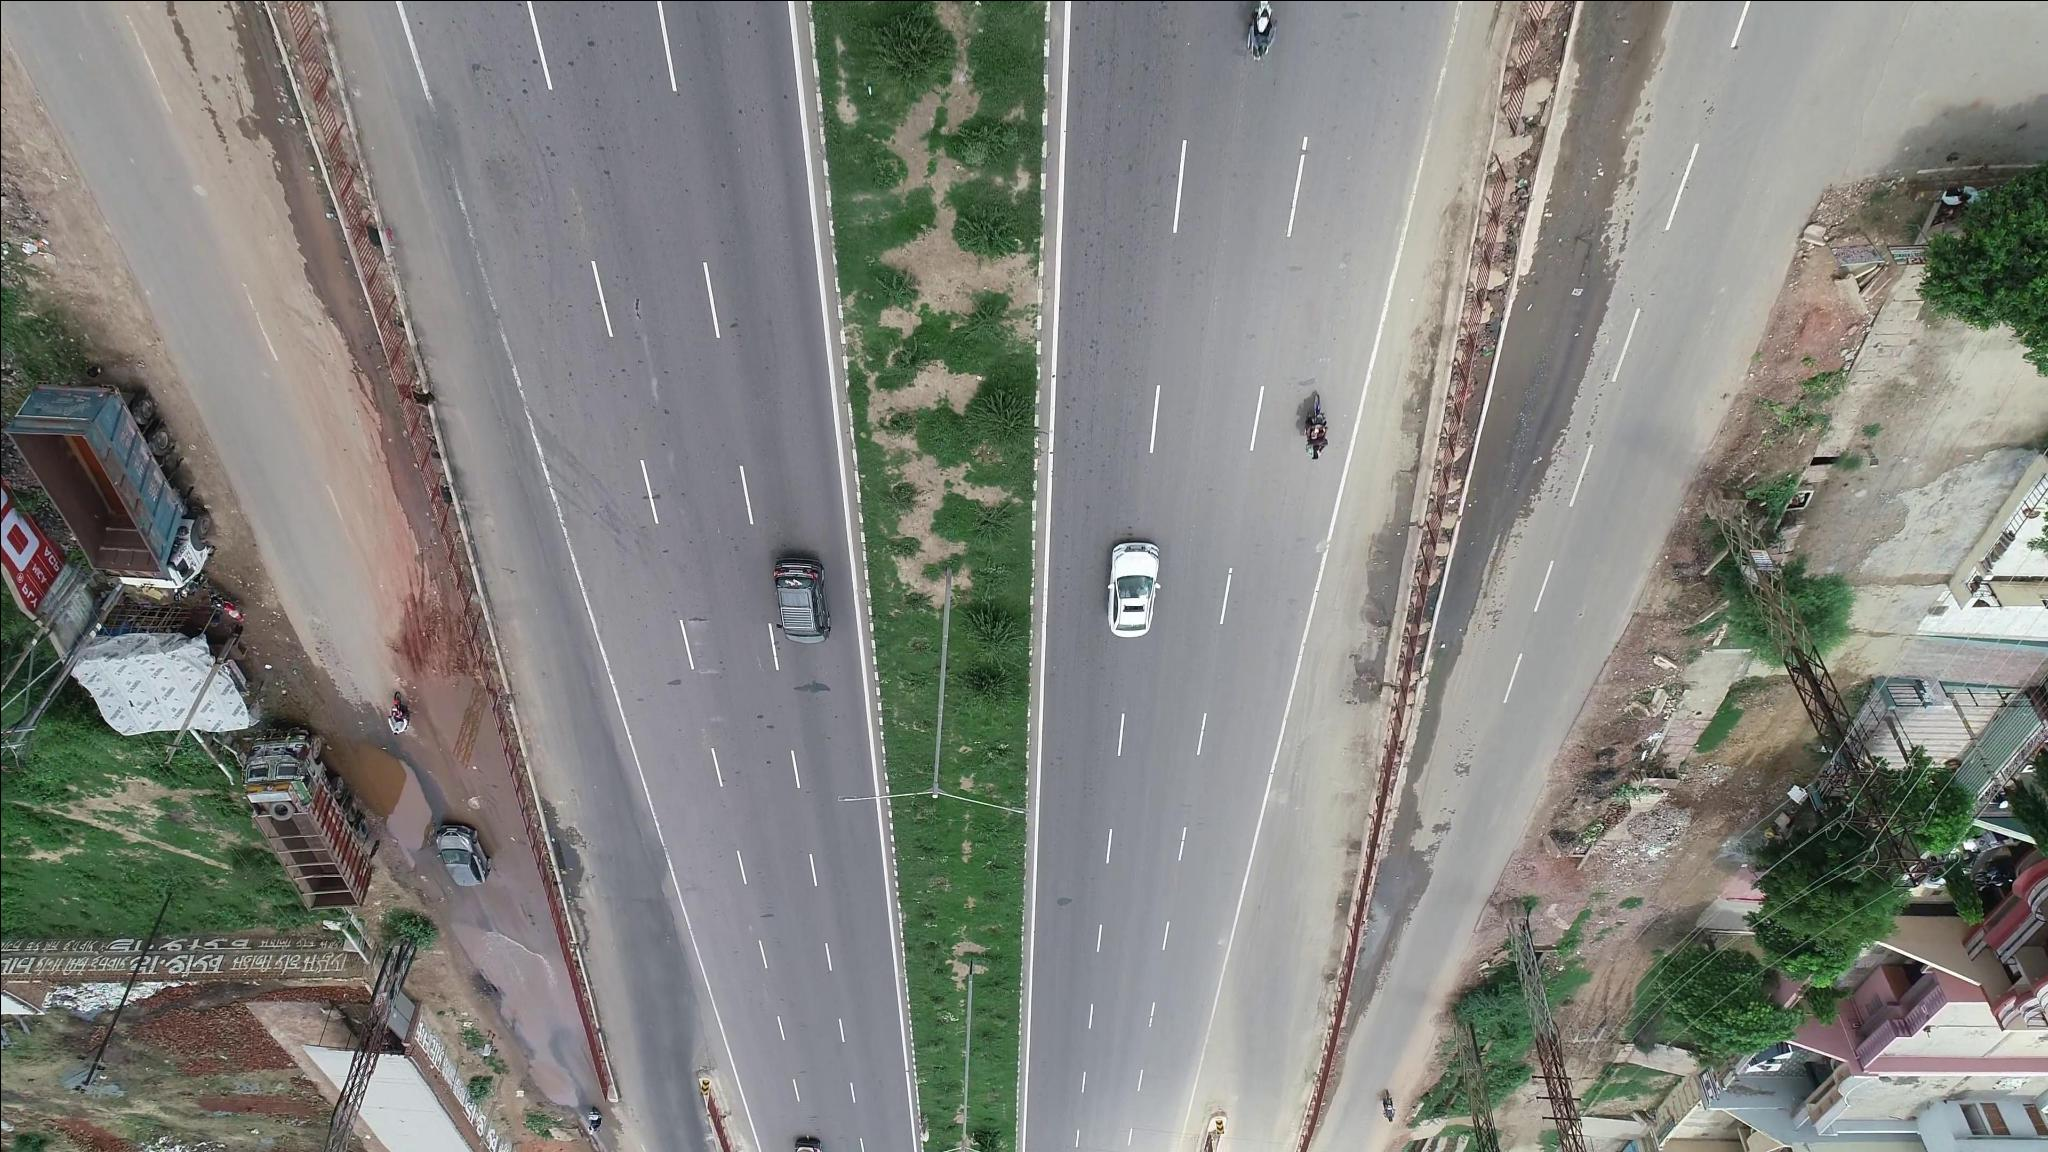Waterlogging: (1459, 256, 1606, 575)
